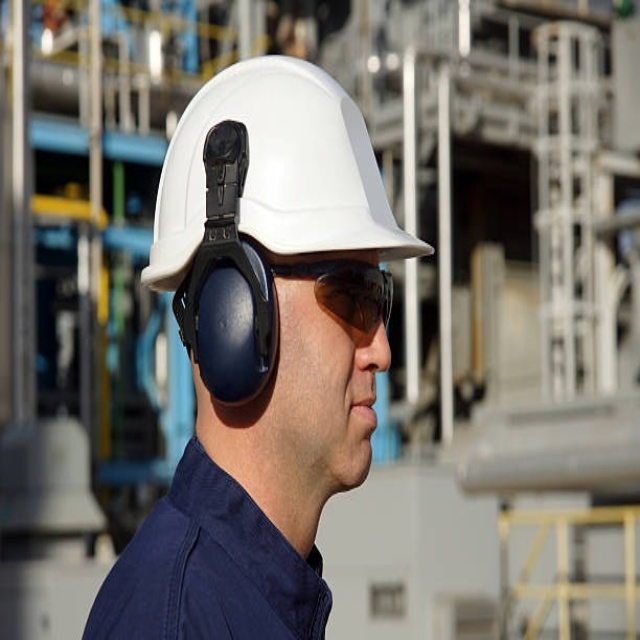Gafas: (271, 258, 394, 334)
Sin_mascara: (317, 369, 387, 485)
